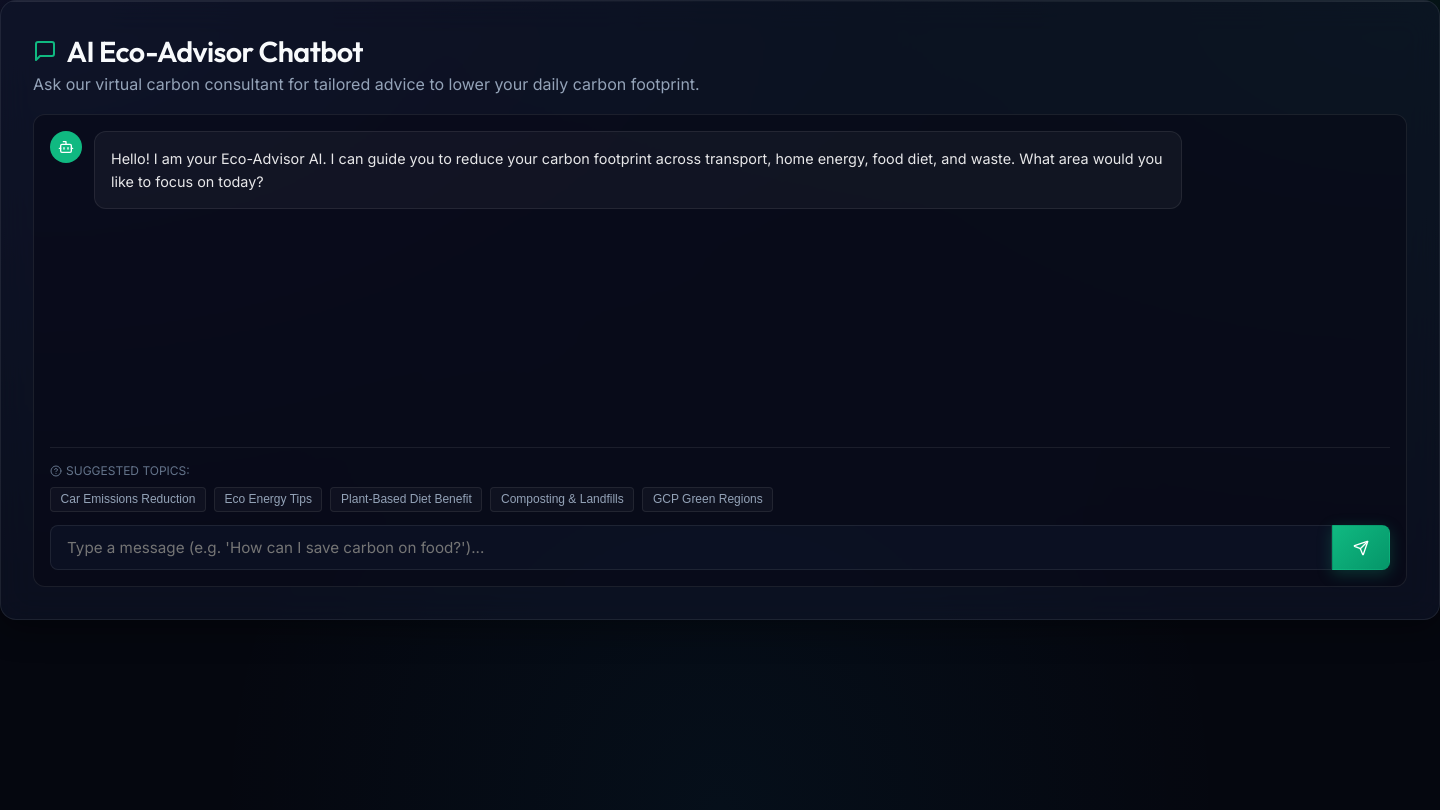
Test: AIAdvisor Component › sends user message and displays simulated bot response
The width and height of the screenshot is (1440, 810).
Note: Get chat input via accessibility label
Type "How to reduce car emissions?" into the field named "Ask our virtual carbon consultant".
click(691, 548); type("How to reduce car emissions?")  # box [50, 525, 1332, 570]
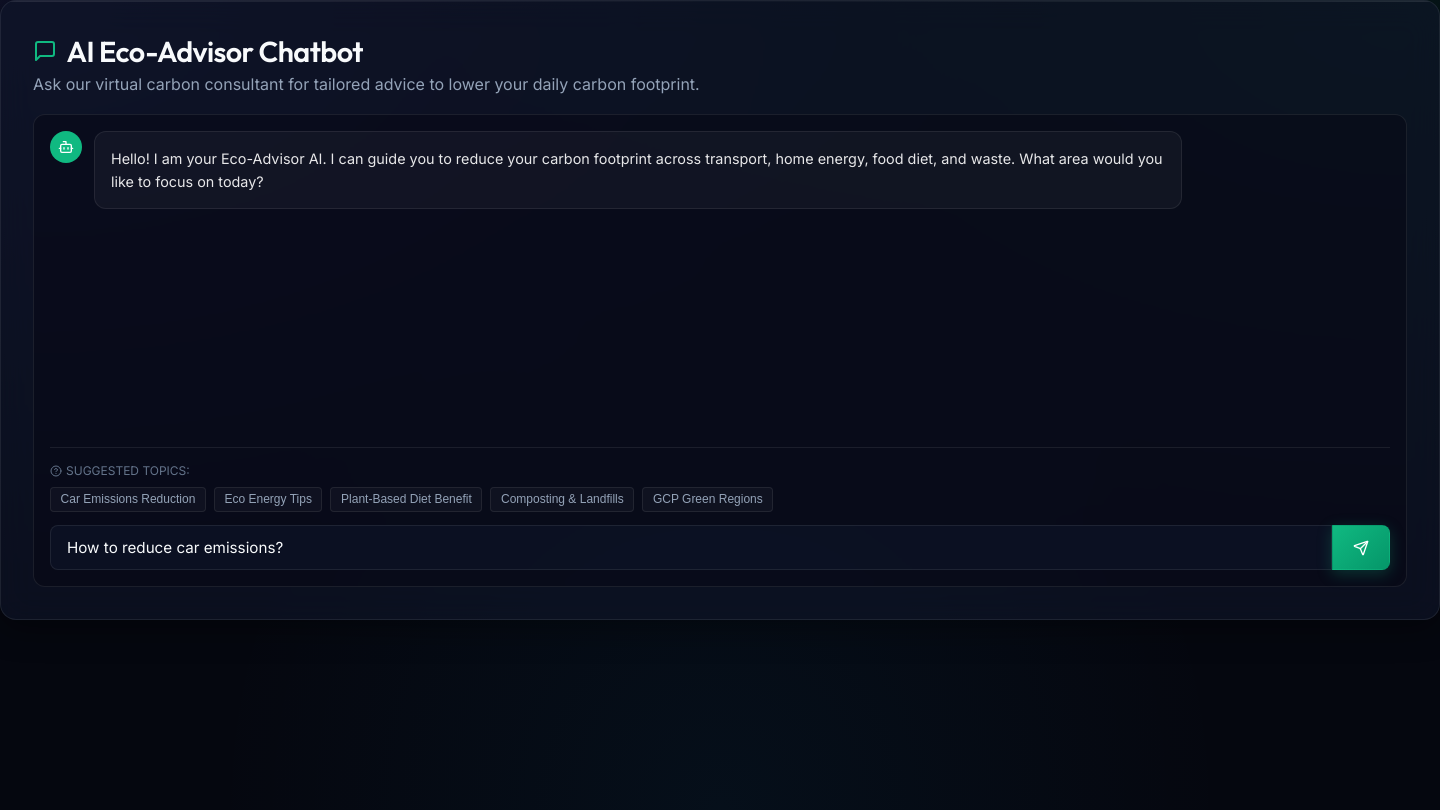
Note: Click send button
Click the button named "Send message".
click(1361, 548)  # box [1332, 525, 1390, 570]
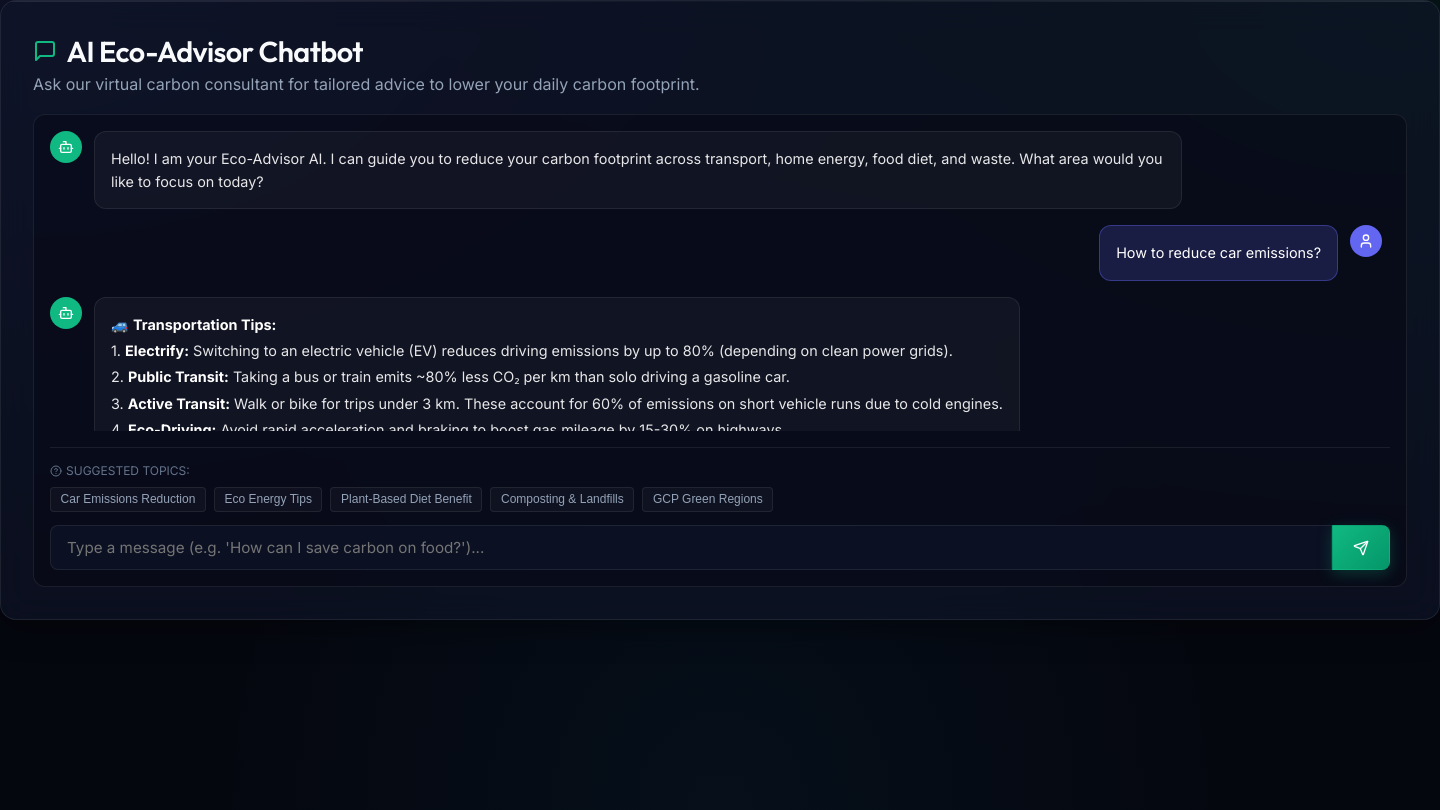
Now the text "How to reduce car emissions?" is shown, box [1116, 241, 1321, 264]
Now the text "Transportation Tips:" is shown, box [133, 316, 276, 333]
